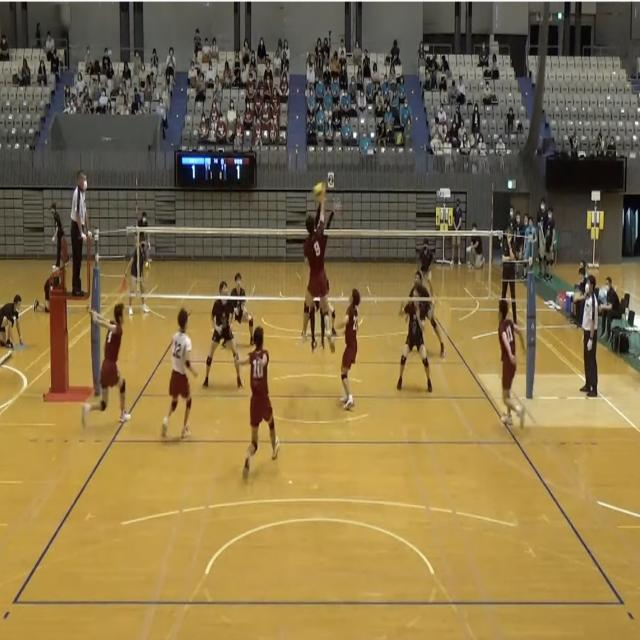spike: (294, 177, 338, 350)
